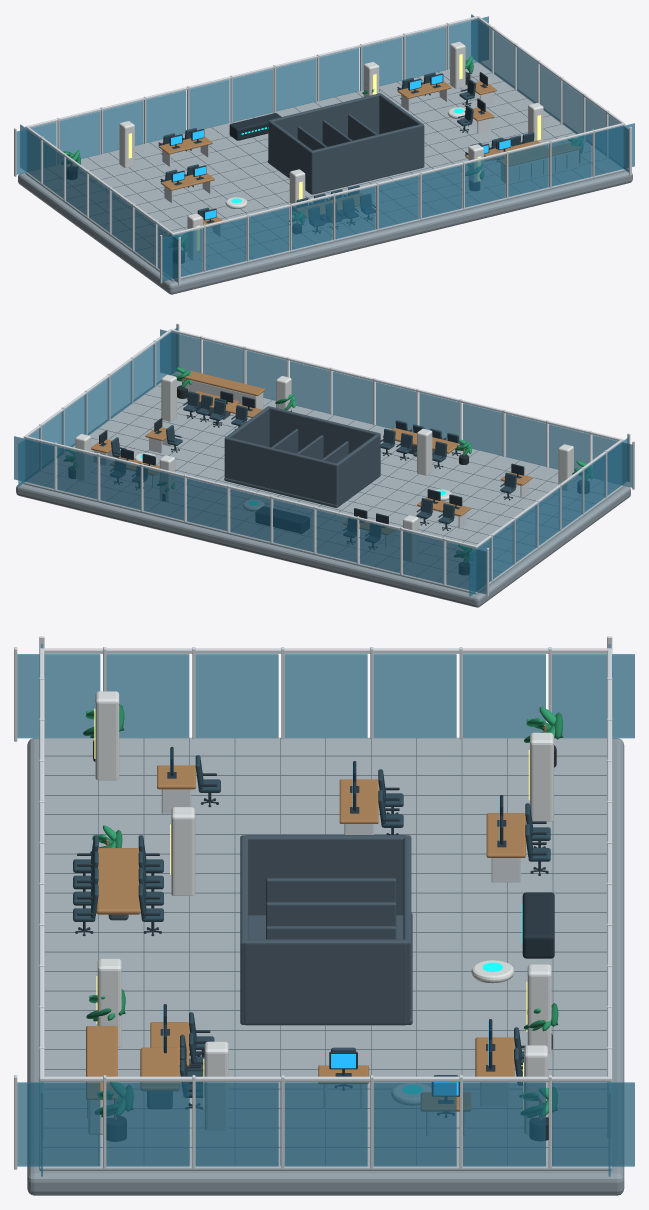
The model's file is open-office-floor.glb.
The picture shows the model from 3 angles, top to bottom: view 1: azimuth 30°, elevation 25°; view 2: azimuth 150°, elevation 25°; view 3: azimuth 270°, elevation 25°; orthographic projection. The views are drawn at different scales.
Visible parts, largest first — view 1: Blue curtain glass, Silver porcelain floor, Graphite service core, Pearl aluminium frames, Architectural concrete slab, Warm architectural white, Natural oak worktops, Graphite tile joints, Midnight chair fabric, Charcoal furniture, Blue monitor glass, Warm inset illumination (+2 smaller); view 2: Blue curtain glass, Silver porcelain floor, Graphite service core, Pearl aluminium frames, Architectural concrete slab, Warm architectural white, Midnight chair fabric, Charcoal furniture, Natural oak worktops, Graphite tile joints, Deep green foliage, Black ceramic planters (+1 smaller); view 3: Silver porcelain floor, Blue curtain glass, Graphite service core, Architectural concrete slab, Pearl aluminium frames, Warm architectural white, Natural oak worktops, Graphite tile joints, Midnight chair fabric, Charcoal furniture, Deep green foliage, Emerald foliage (+2 smaller).
Boxes of the visible parts, box(x1,y1,x2,y2) form: Blue curtain glass: box(16, 14, 634, 282); Silver porcelain floor: box(25, 62, 625, 281); Graphite service core: box(267, 93, 555, 223); Pearl aluminium frames: box(14, 16, 631, 285); Architectural concrete slab: box(18, 62, 632, 294); Warm architectural white: box(119, 41, 578, 259); Natural oak worktops: box(71, 81, 580, 227); Graphite tile joints: box(54, 71, 603, 271); Midnight chair fabric: box(158, 72, 534, 226); Charcoal furniture: box(158, 72, 521, 233); Blue monitor glass: box(171, 74, 510, 219); Warm inset illumination: box(128, 54, 540, 250); Blue curtain glass: box(14, 327, 632, 596); Silver porcelain floor: box(23, 375, 623, 594); Graphite service core: box(195, 403, 434, 507); Pearl aluminium frames: box(23, 323, 634, 596); Architectural concrete slab: box(16, 380, 630, 607); Warm architectural white: box(75, 374, 573, 561); Midnight chair fabric: box(110, 391, 516, 542); Charcoal furniture: box(99, 391, 524, 549); Natural oak worktops: box(73, 371, 532, 559); Graphite tile joints: box(45, 385, 595, 586); Deep green foliage: box(64, 370, 591, 564); Black ceramic planters: box(68, 385, 589, 574); Silver porcelain floor: box(39, 737, 612, 1170); Blue curtain glass: box(17, 644, 634, 1176); Graphite service core: box(87, 835, 412, 1117); Architectural concrete slab: box(27, 738, 624, 1195); Pearl aluminium frames: box(14, 636, 612, 1169); Warm architectural white: box(88, 691, 553, 1134); Natural oak worktops: box(86, 724, 546, 1120); Graphite tile joints: box(43, 738, 608, 1165); Midnight chair fabric: box(73, 755, 550, 1097); Charcoal furniture: box(75, 747, 554, 1117); Deep green foliage: box(83, 704, 562, 1117); Emerald foliage: box(85, 707, 555, 1116).
Size of the model in its own units: 23.92 by 2.87 by 13.94.
